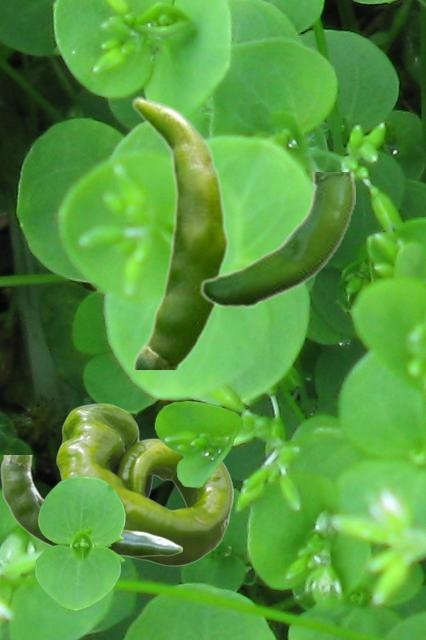green_chili: (56, 403, 232, 565), (130, 95, 229, 368), (199, 172, 354, 308), (0, 455, 181, 556)
